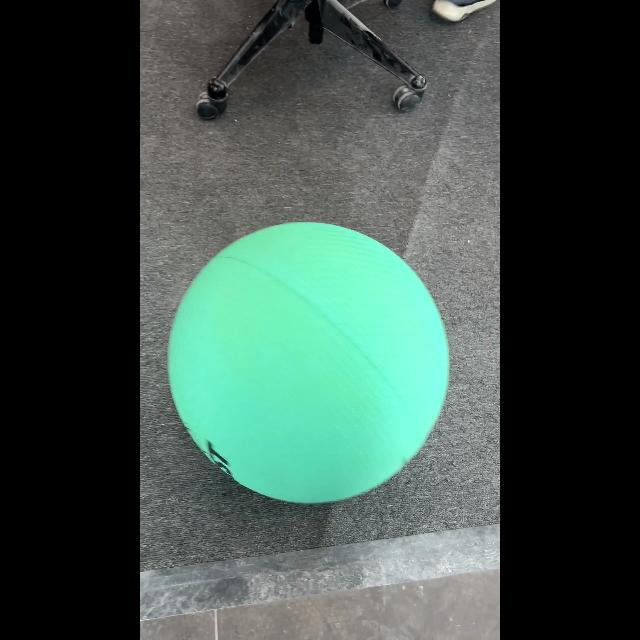ALGAE: (166, 220, 450, 504)
